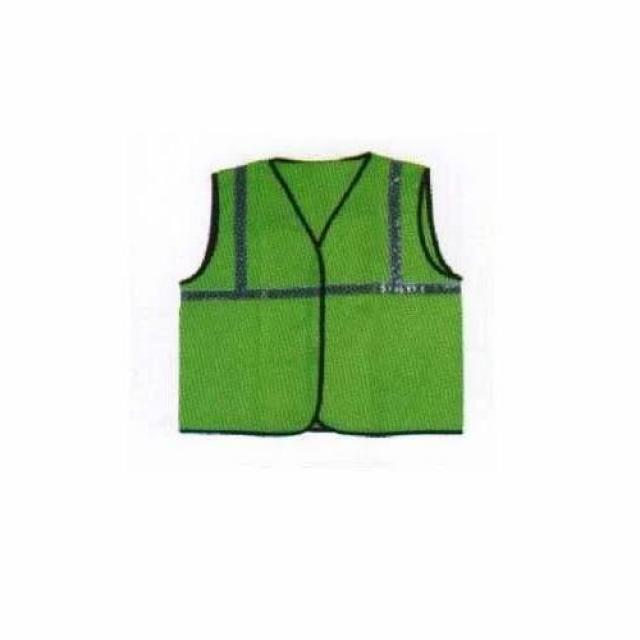Reflective-Jacket: (124, 143, 501, 448)
